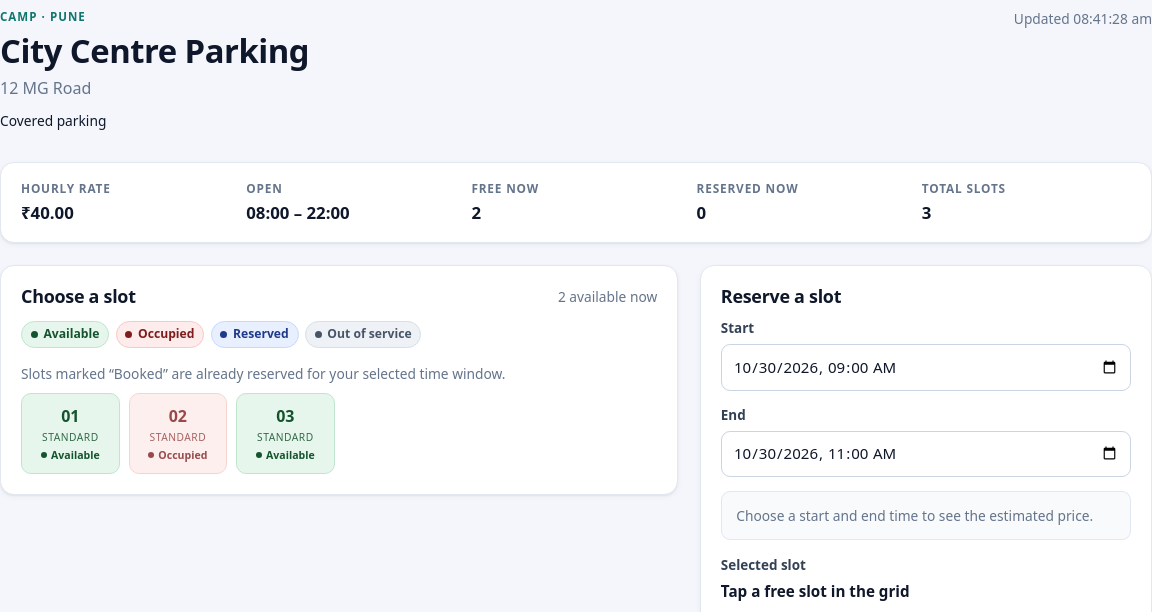
Test: booking flow › books the selected slot and shows the real confirmation reference
Click the button with aria-label "Slot 01" at coordinates (70, 434), box [21,394,120,474]
(page scrolled)
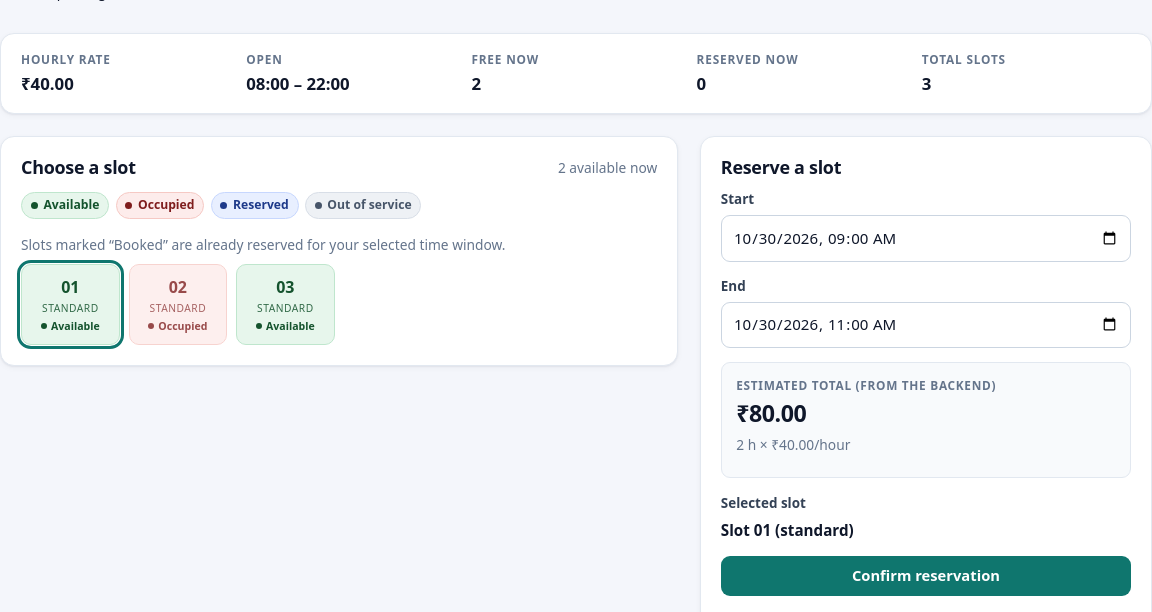
Expected: the field labelled "Start" is not empty, [721,215,1131,262]
Result: the text "Estimated total (from the backend)" is shown at [736,377,996,393]
Result: the button "Confirm reservation" is enabled
Click the button "Confirm reservation" at coordinates (926, 576), box [721,556,1131,596]
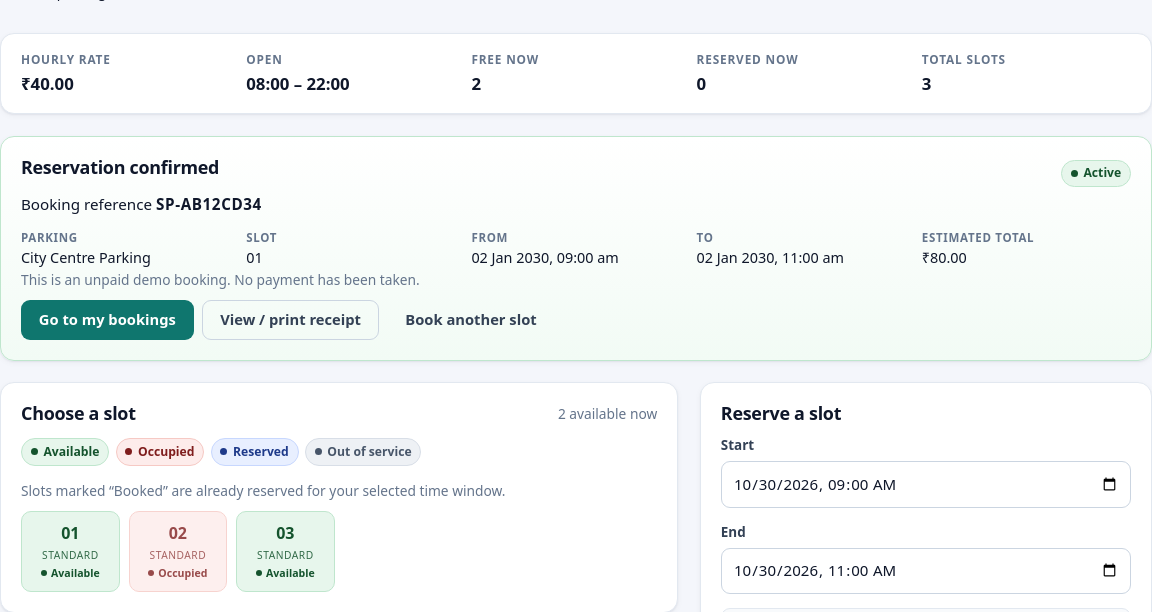
Result: the heading "Reservation confirmed" is shown at [21,157,219,178]
Result: the text "SP-AB12CD34" is shown at [156,194,262,214]
Result: the text "This is an unpaid demo booking. No payment has been taken." is shown at [21,270,420,289]
